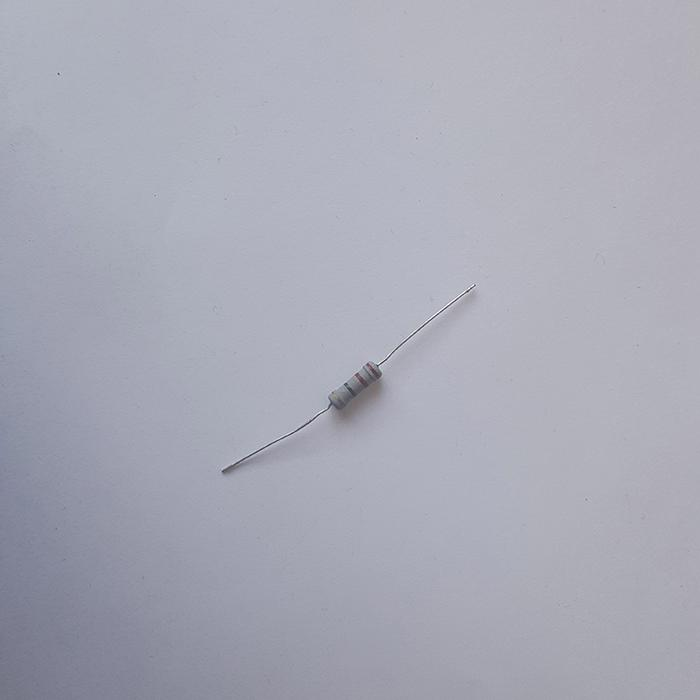resistor: (327, 360, 381, 410)
